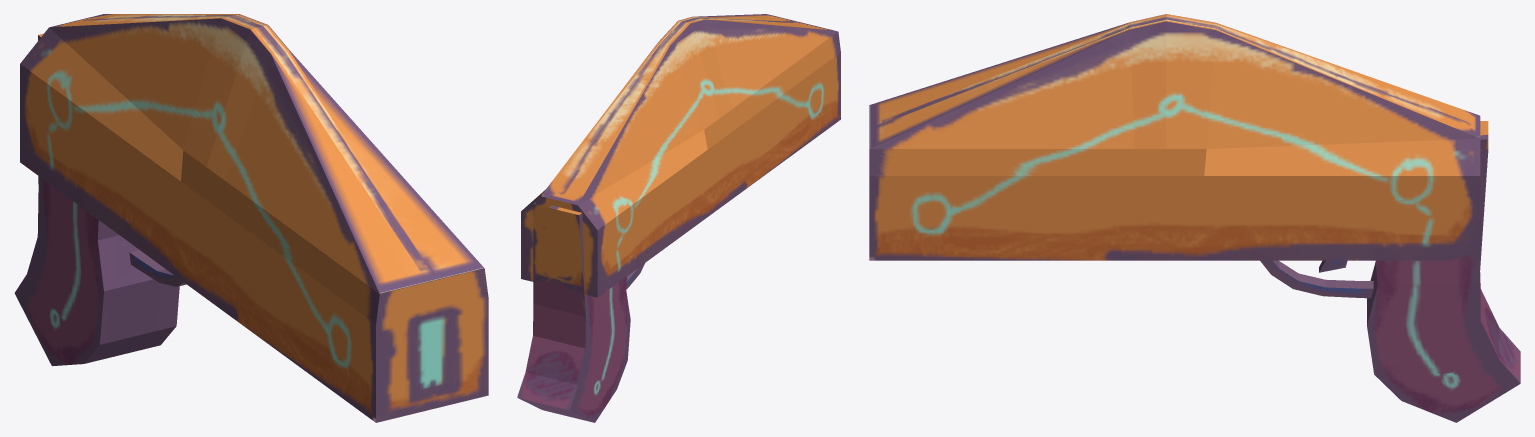
File: Pistol.fbx
The picture shows the model from 3 angles, left to right: view 1: azimuth 30°, elevation 25°; view 2: azimuth 150°, elevation 25°; view 3: azimuth 270°, elevation 25°; orthographic projection. The views are drawn at different scales.
Parts seen in each view (by area): view 1: Pistol; view 2: Pistol; view 3: Pistol.
Part boxes in pixels (x1,y1,x2,y2): Pistol: [14, 14, 488, 422]; Pistol: [517, 14, 840, 422]; Pistol: [869, 14, 1520, 422].
Size of the model in its own units: 6.7 by 25.8 by 39.14.
Materials: 1 (1 with a texture image).
